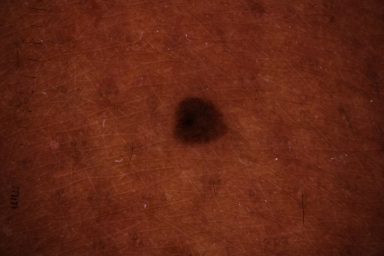nevus: (174, 96, 225, 141)
